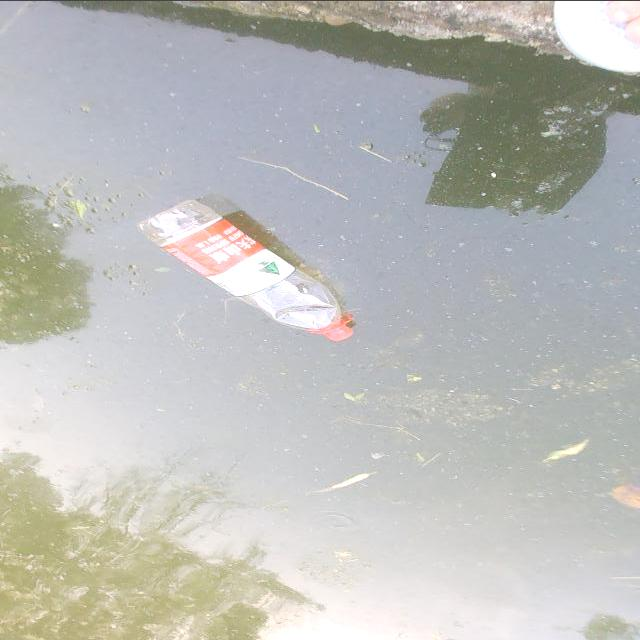bottle: (127, 182, 364, 372)
